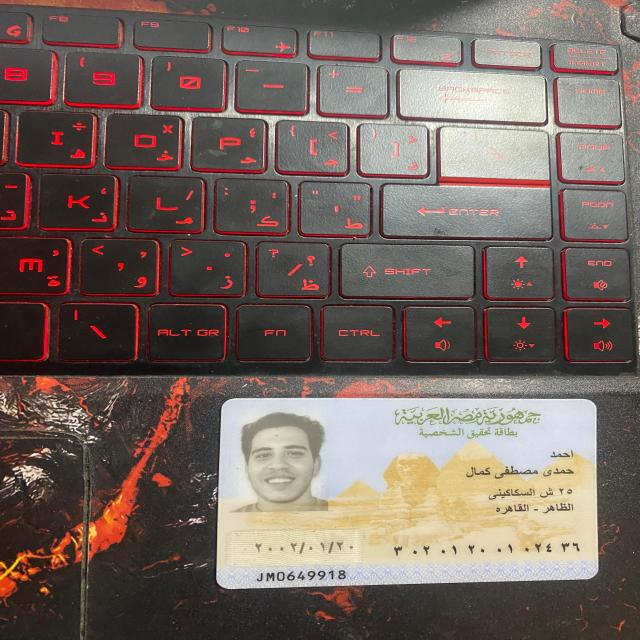ID-cards: (204, 394, 606, 595)
